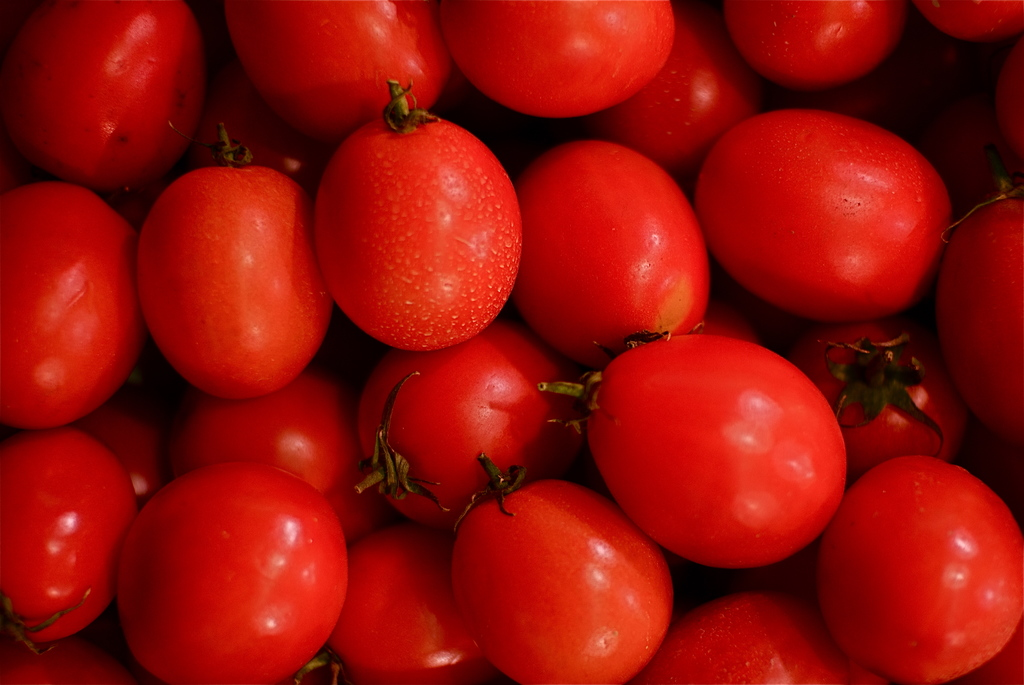Tomato: (0, 0, 1023, 684), (115, 459, 357, 684)
